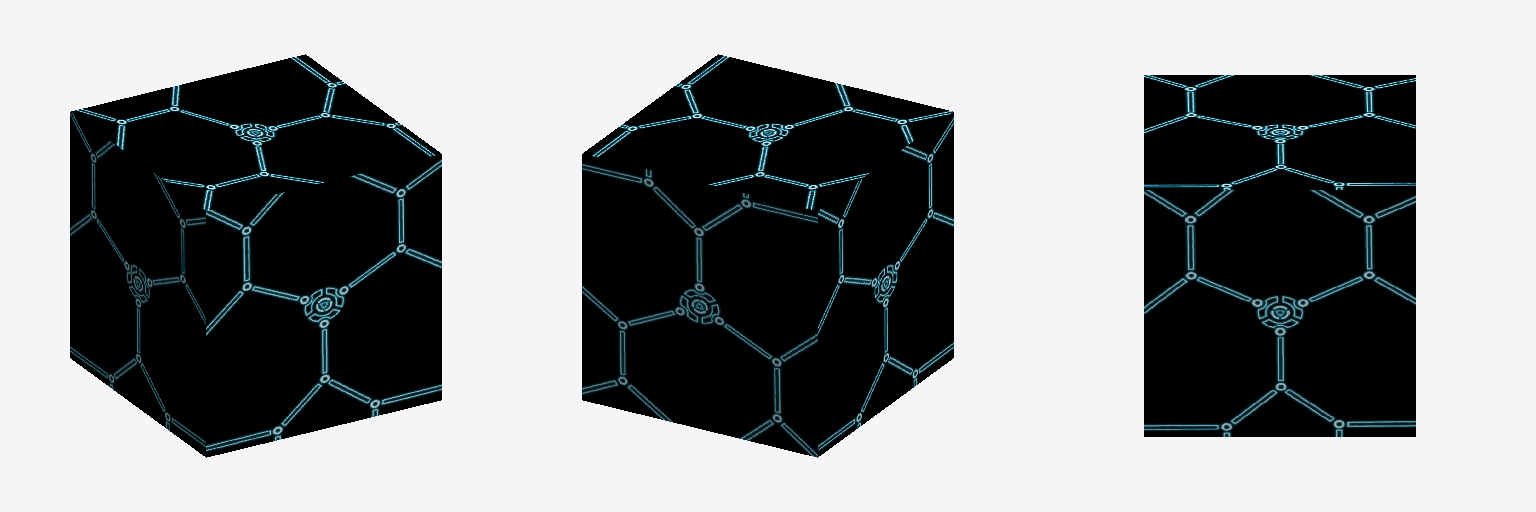
3 views of the same model, side by side, from view 1: azimuth 30°, elevation 25°; view 2: azimuth 150°, elevation 25°; view 3: azimuth 270°, elevation 25° (orthographic).
Parts seen in each view (by area): view 1: Cube.001; view 2: Cube.001; view 3: Cube.001.
Part boxes in pixels (left/top/right/bottom): Cube.001: left=70, top=54, right=441, bottom=457; Cube.001: left=582, top=54, right=953, bottom=457; Cube.001: left=1144, top=75, right=1415, bottom=436.
Bounding box in the file's own units: 2 × 2 × 2.
Materials: 1 (1 with a texture image).